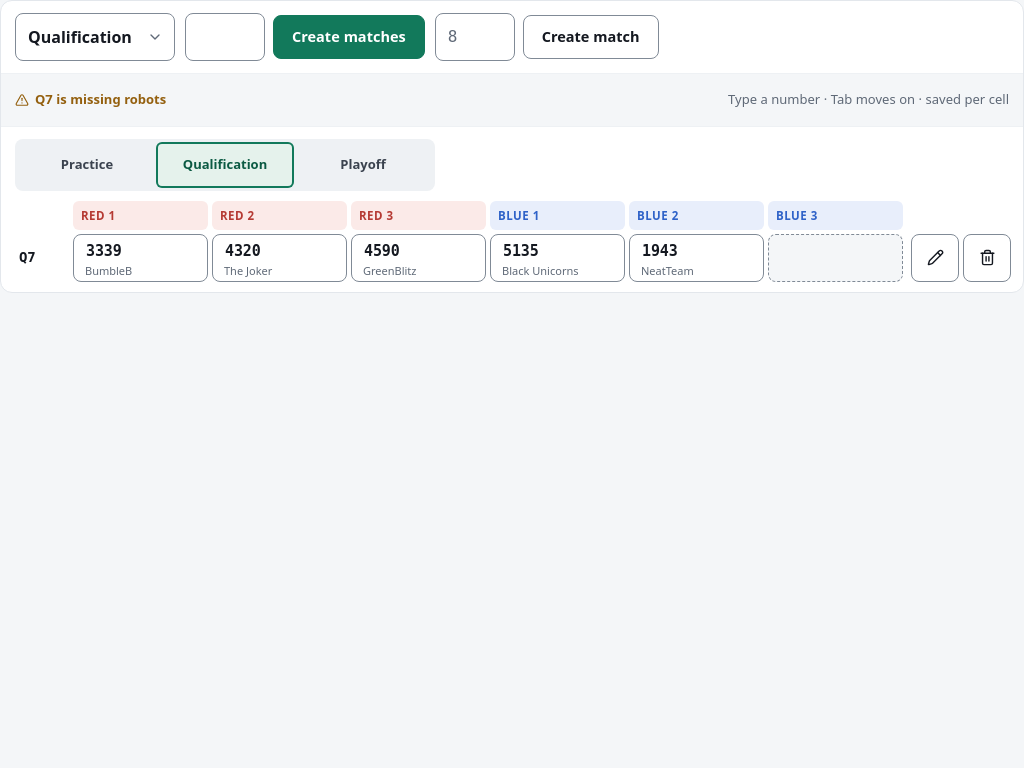
Test: MatchesPanel › edits a match type and number from ✎
Click the button named "Edit match 7 (qualification)": {"x": 935, "y": 258} [911,234,959,282]
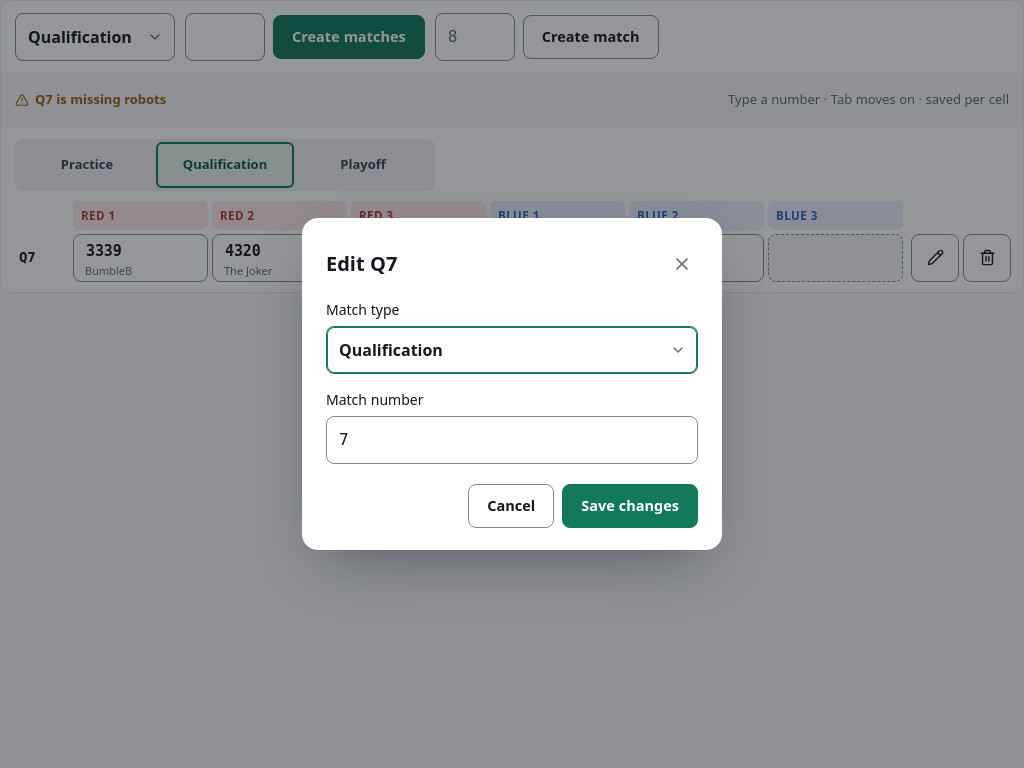
Replace the text in the number field labelled "Match number" with "17": {"x": 512, "y": 440} [326,416,698,464]
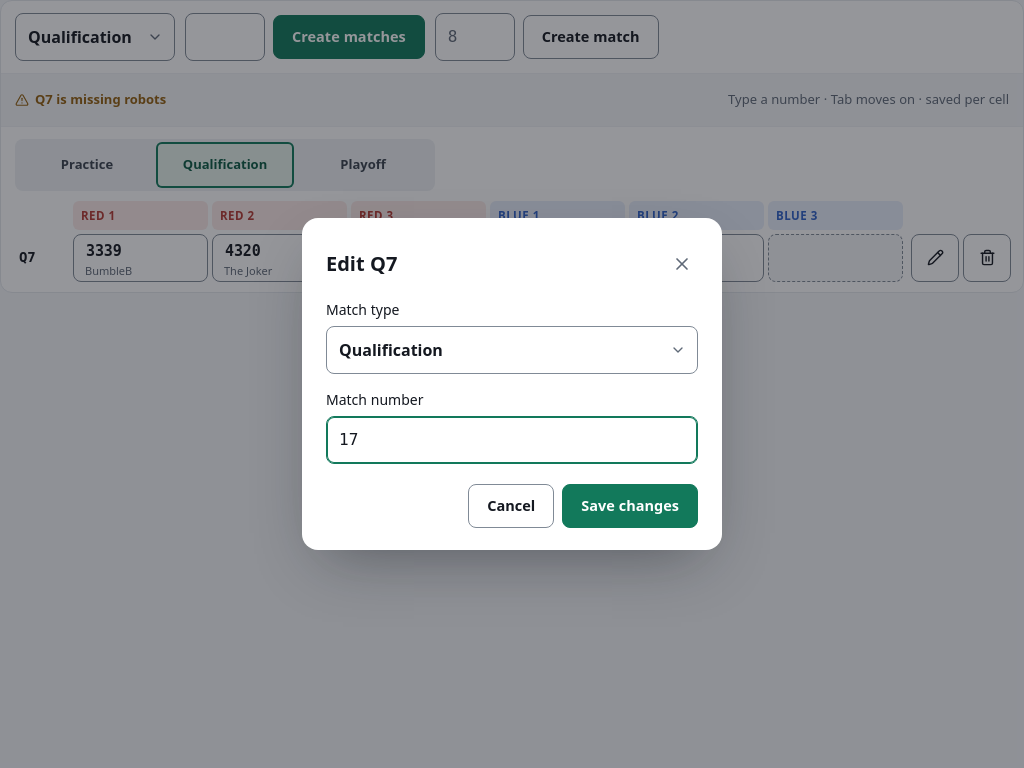
Click the button "Save changes": {"x": 630, "y": 506} [562,484,698,528]
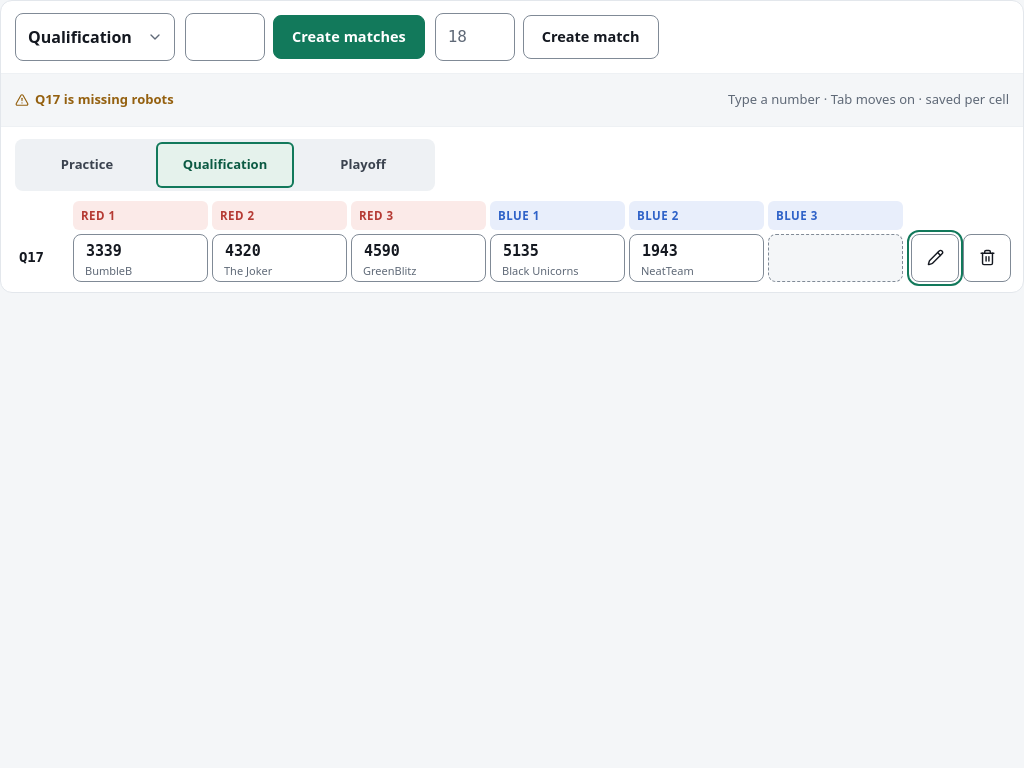
Result: the dialog is gone
Result: the element "Q17" is shown at [13,234,1011,282]
